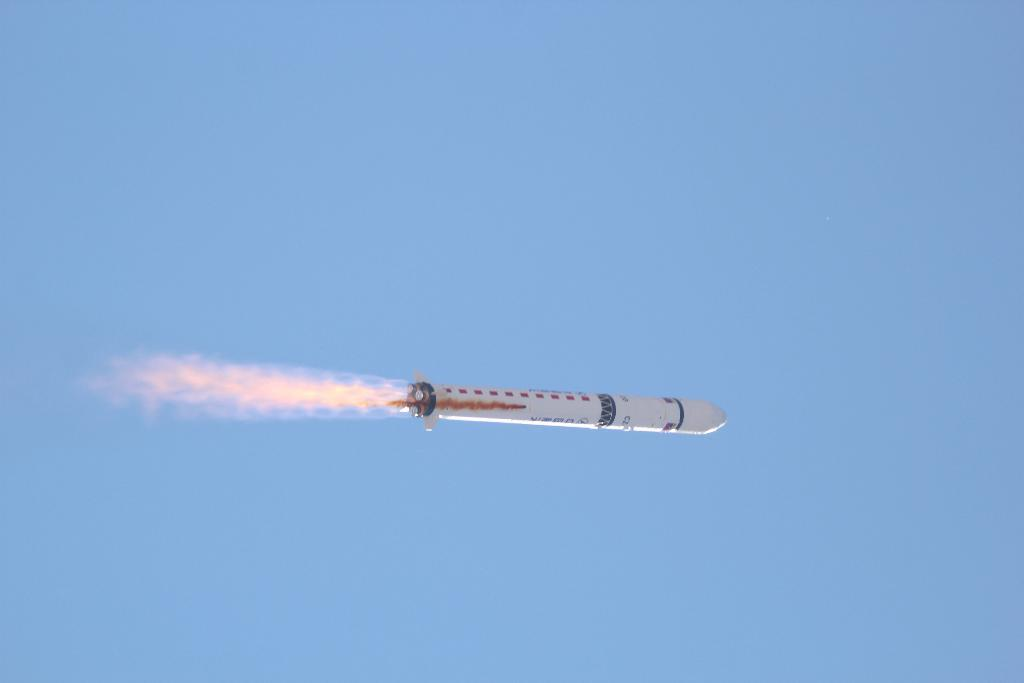Missile: (387, 367, 731, 436)
